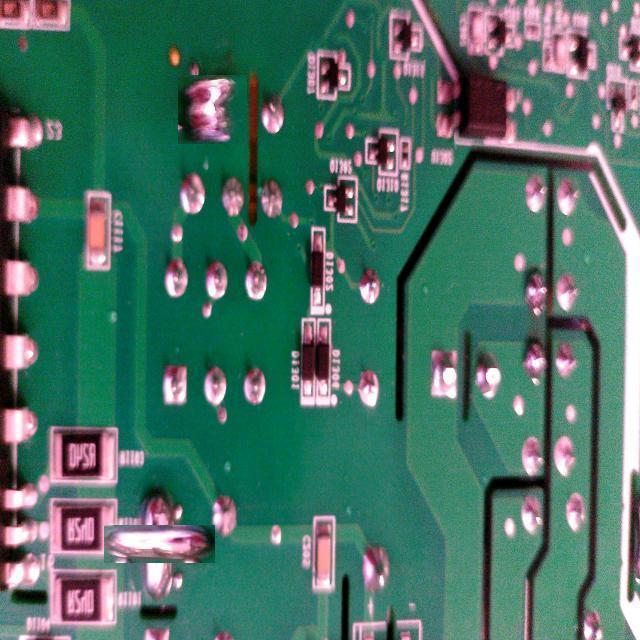Short_circuit: (121, 507, 197, 581), (178, 75, 247, 144)
